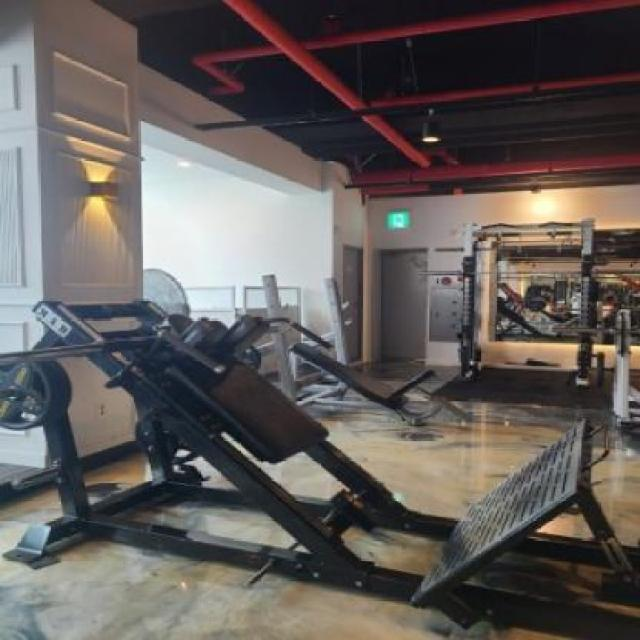leg press: (11, 283, 640, 639)
